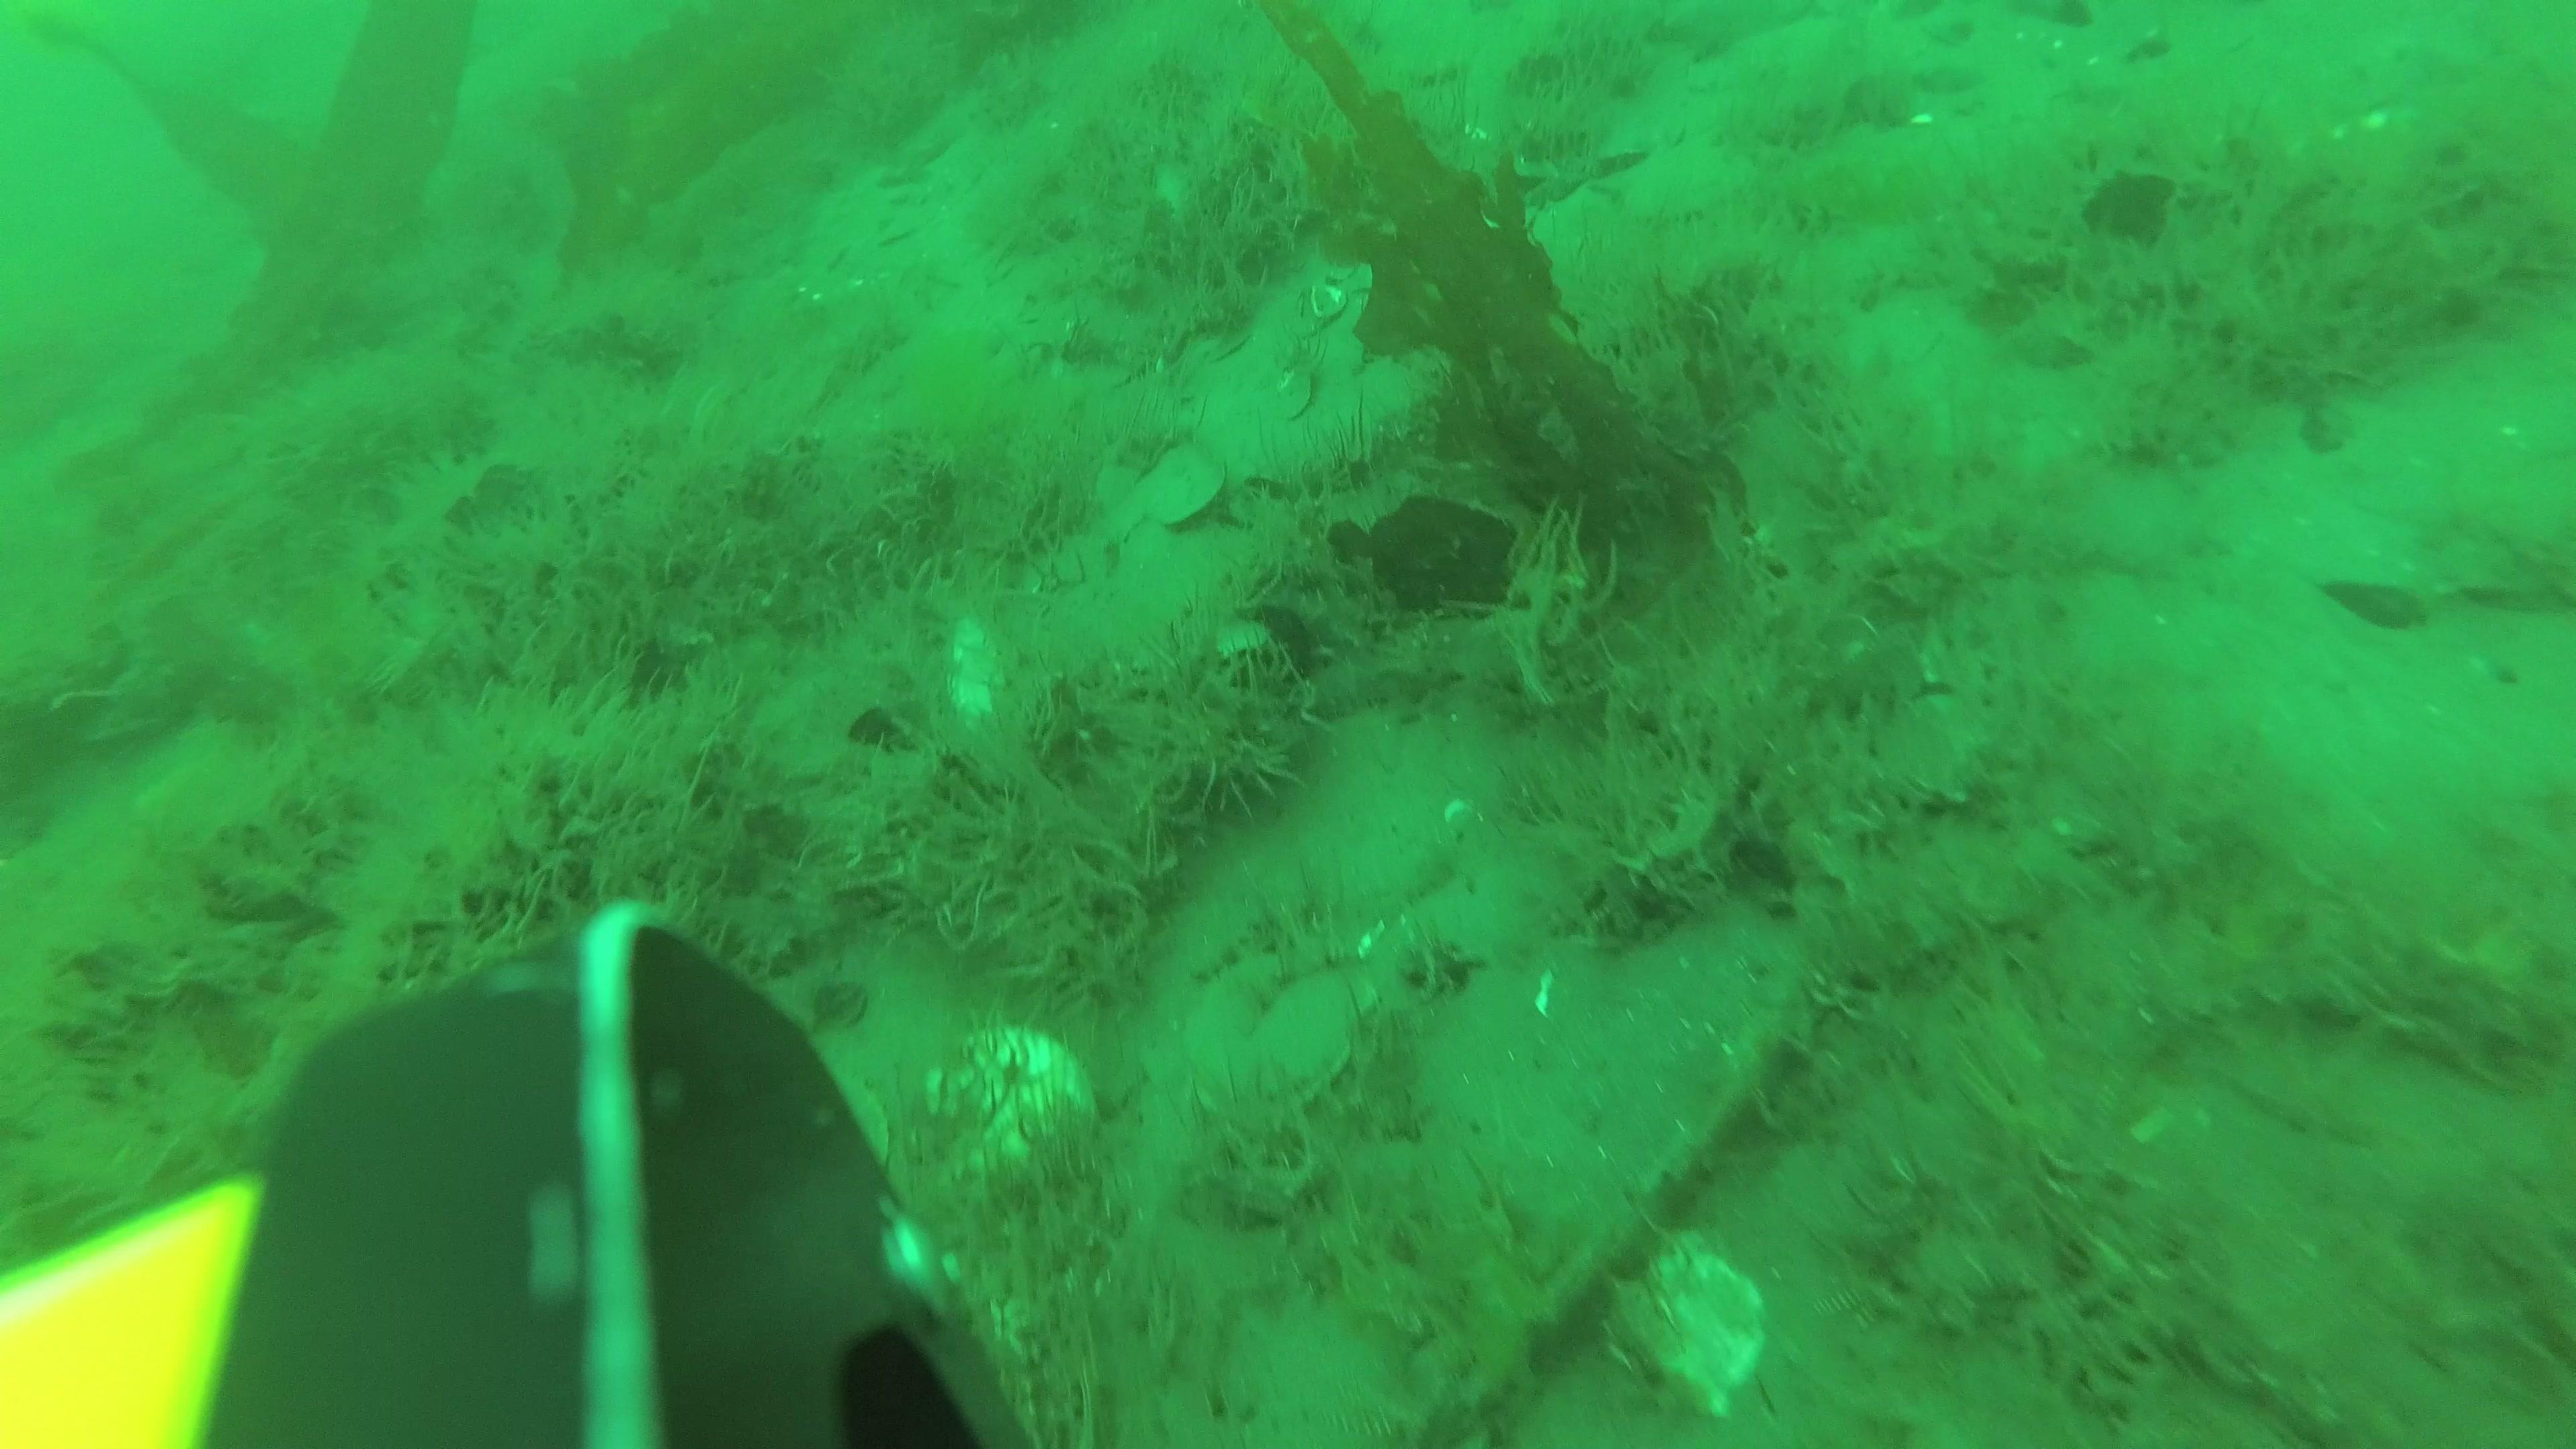scallop: (1619, 1224, 1775, 1414), (929, 1028, 1102, 1191), (1185, 959, 1352, 1118), (943, 619, 1016, 745)
